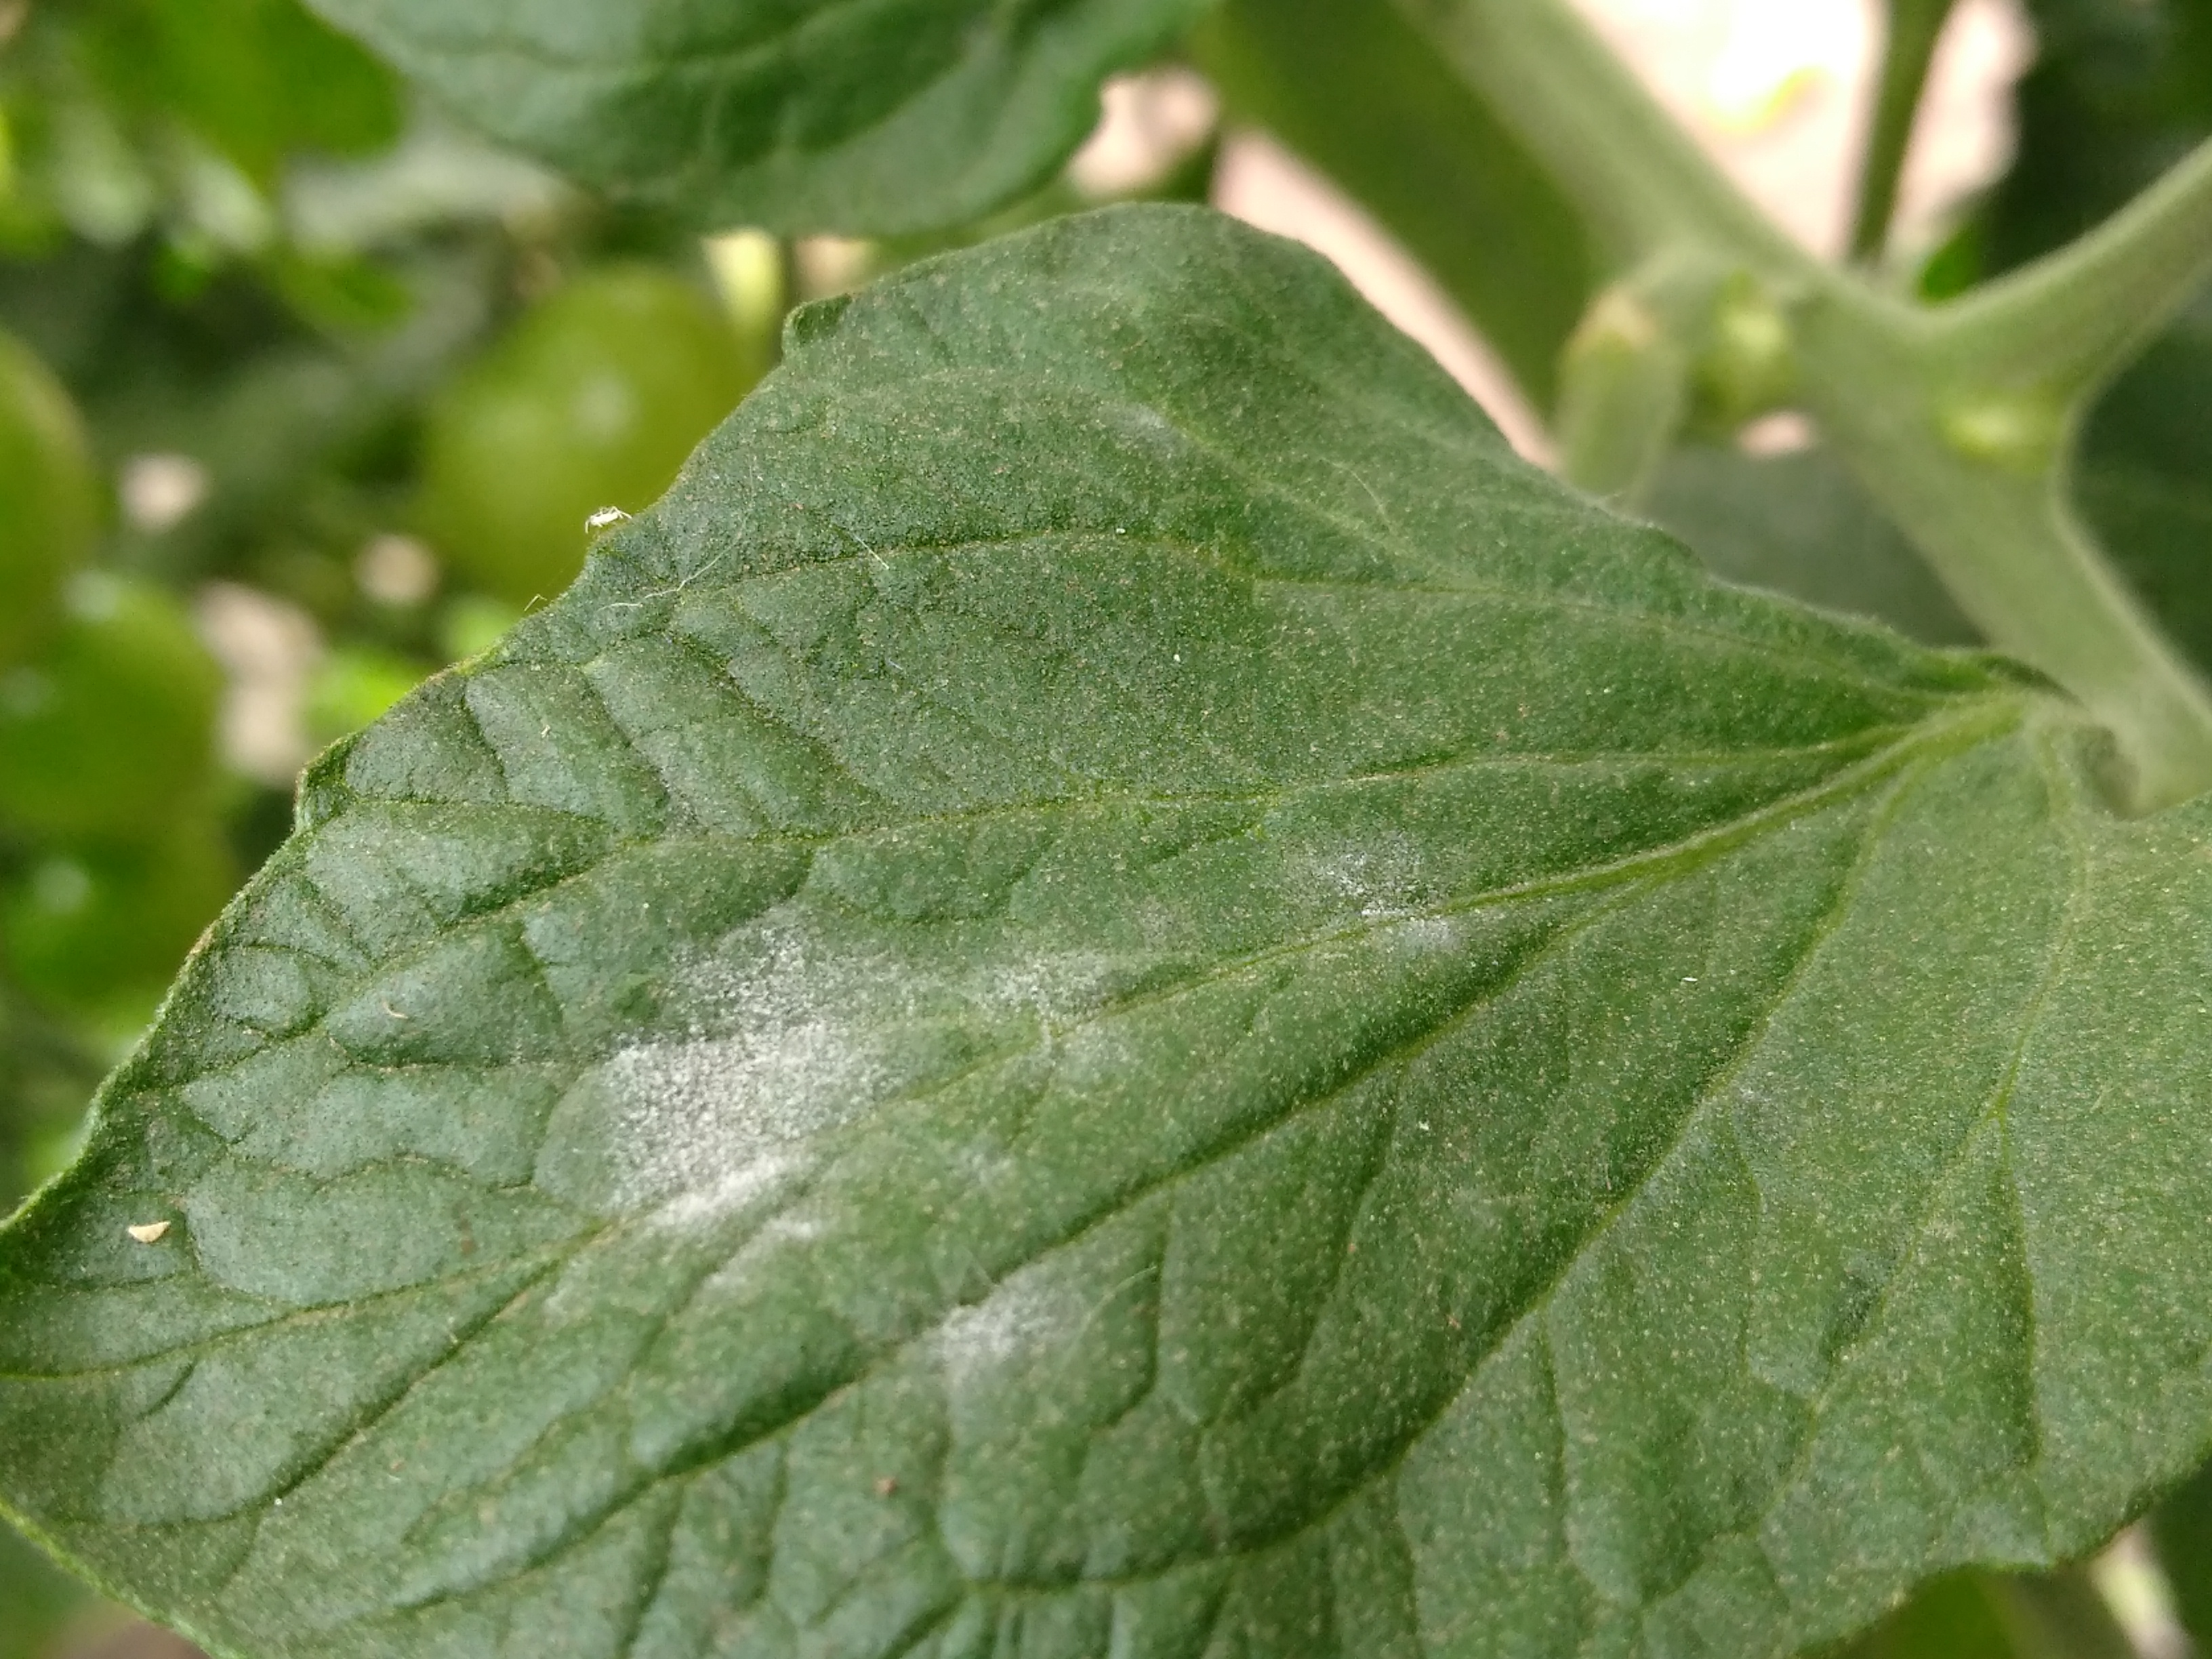blanca: (590, 906, 960, 1248), (1292, 821, 1487, 988), (916, 1248, 1087, 1410)
